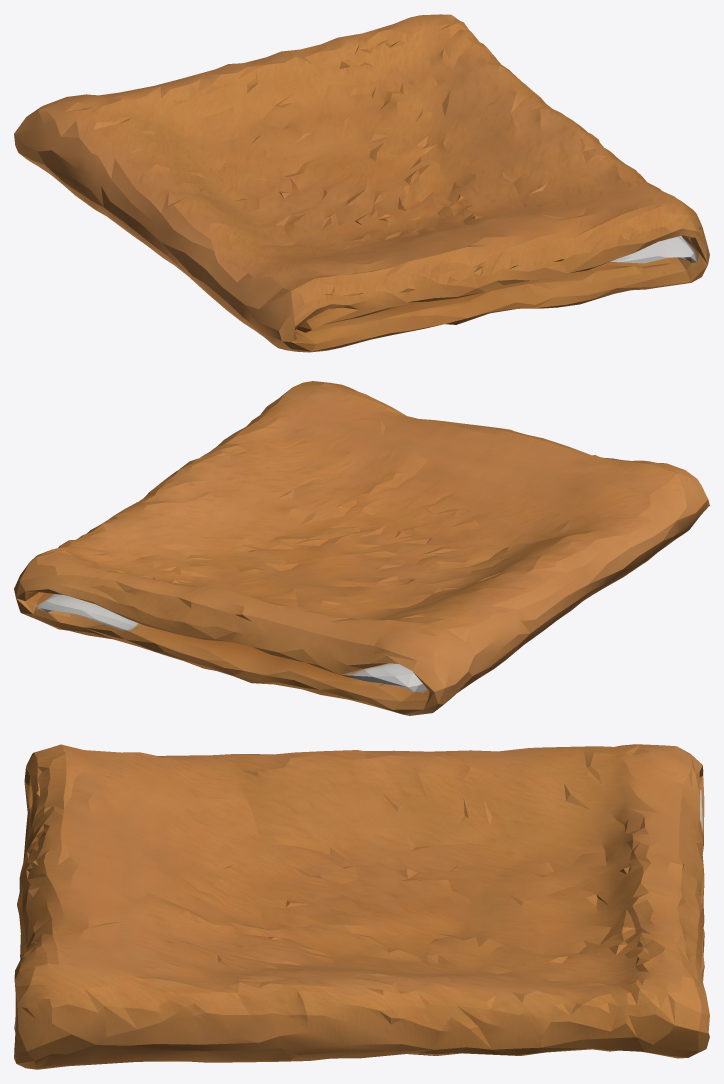
The model's file is cloth.glb.
The picture shows the model from 3 angles, top to bottom: view 1: azimuth 30°, elevation 25°; view 2: azimuth 150°, elevation 25°; view 3: azimuth 270°, elevation 25°; orthographic projection. The views are drawn at different scales.
Parts seen in each view (by area): view 1: model; view 2: model; view 3: model.
Boxes of the visible parts, left/top/right/bottom form: model: left=14, top=14, right=709, bottom=352; model: left=14, top=381, right=709, bottom=715; model: left=14, top=744, right=709, bottom=1069.
Bounding box in the file's own units: 1.72 × 0.3136 × 1.89.
Materials: 1 (1 with a texture image).
